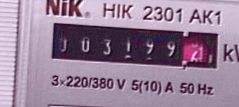0: (55, 32, 68, 54), (78, 33, 91, 53)
1: (122, 34, 133, 53)
3: (100, 37, 112, 56)
6: (189, 48, 199, 64)
9: (143, 36, 155, 56), (164, 38, 176, 57)
screen: (44, 18, 227, 76)
